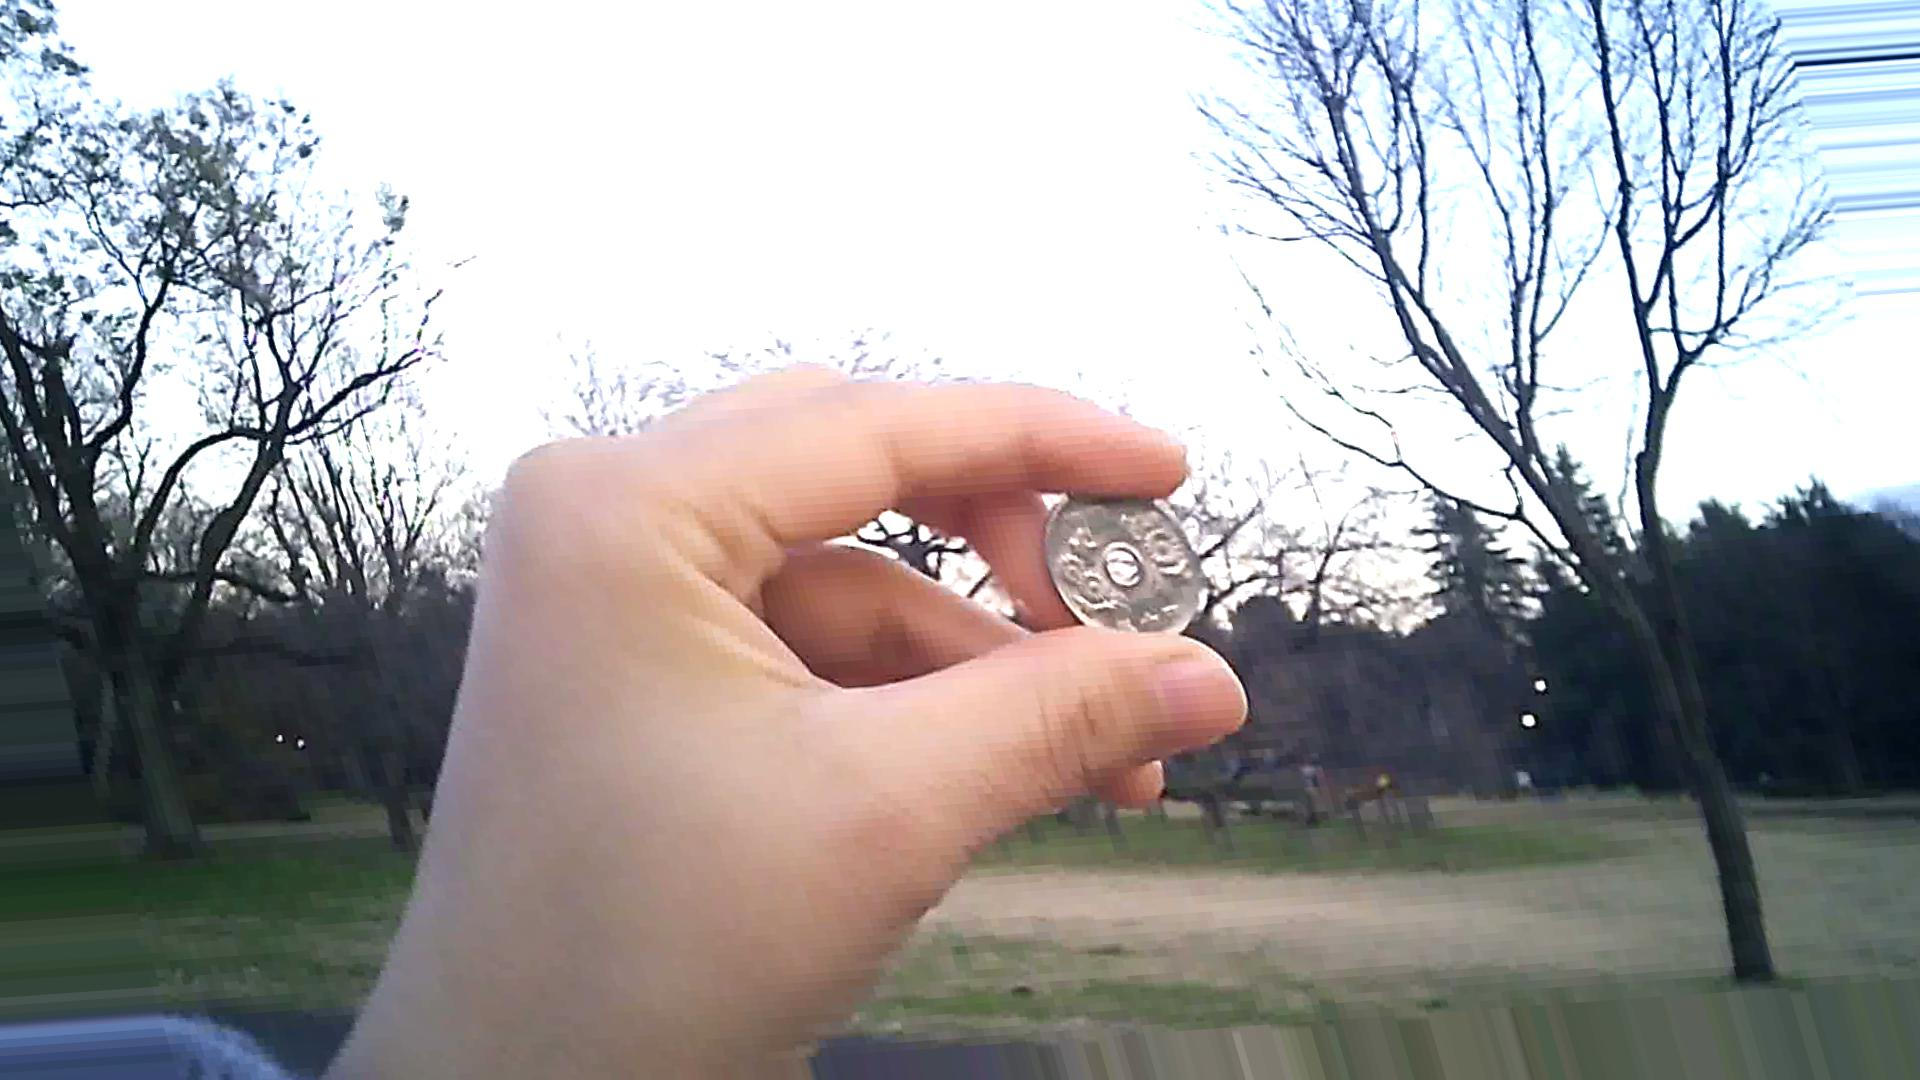50 Yen: (1026, 477, 1226, 647)
